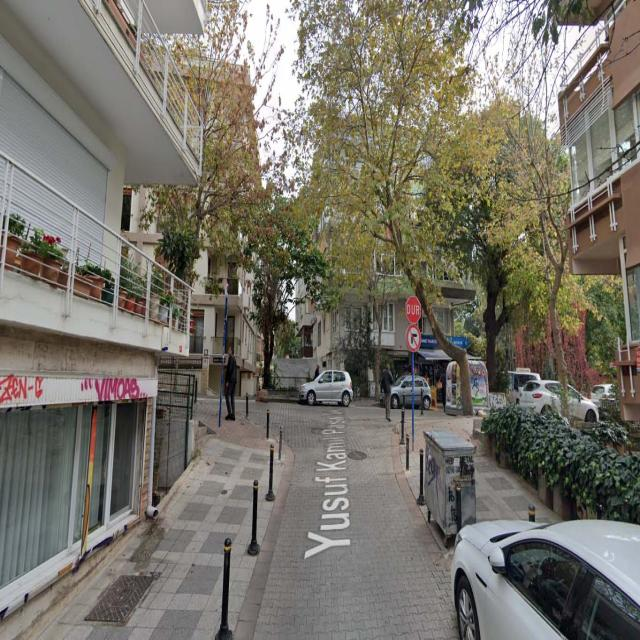dur: (406, 296, 421, 323)
sagadonulmez: (406, 324, 421, 352)
